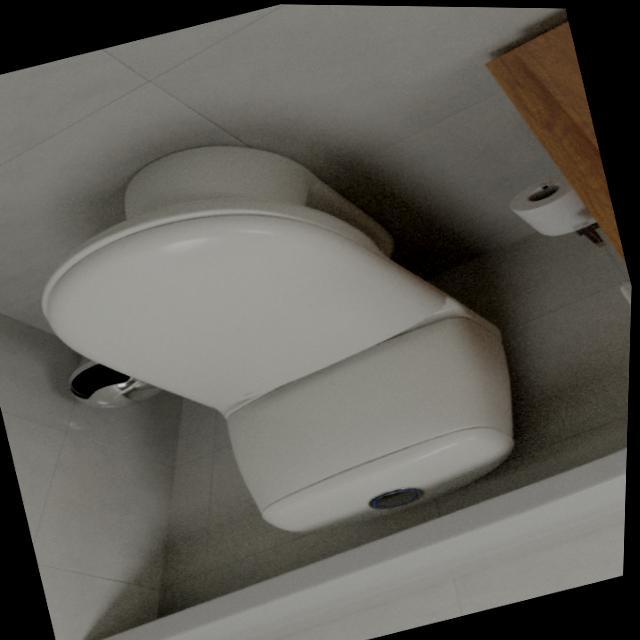toilet: (4, 78, 549, 590)
